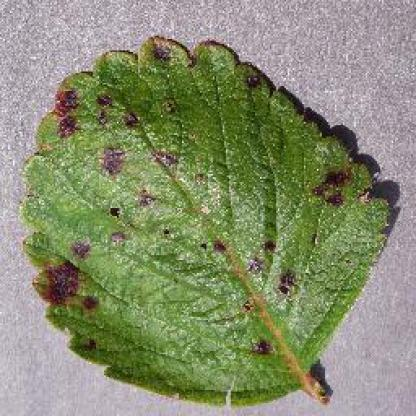leaf scorch: (14, 26, 400, 408)
